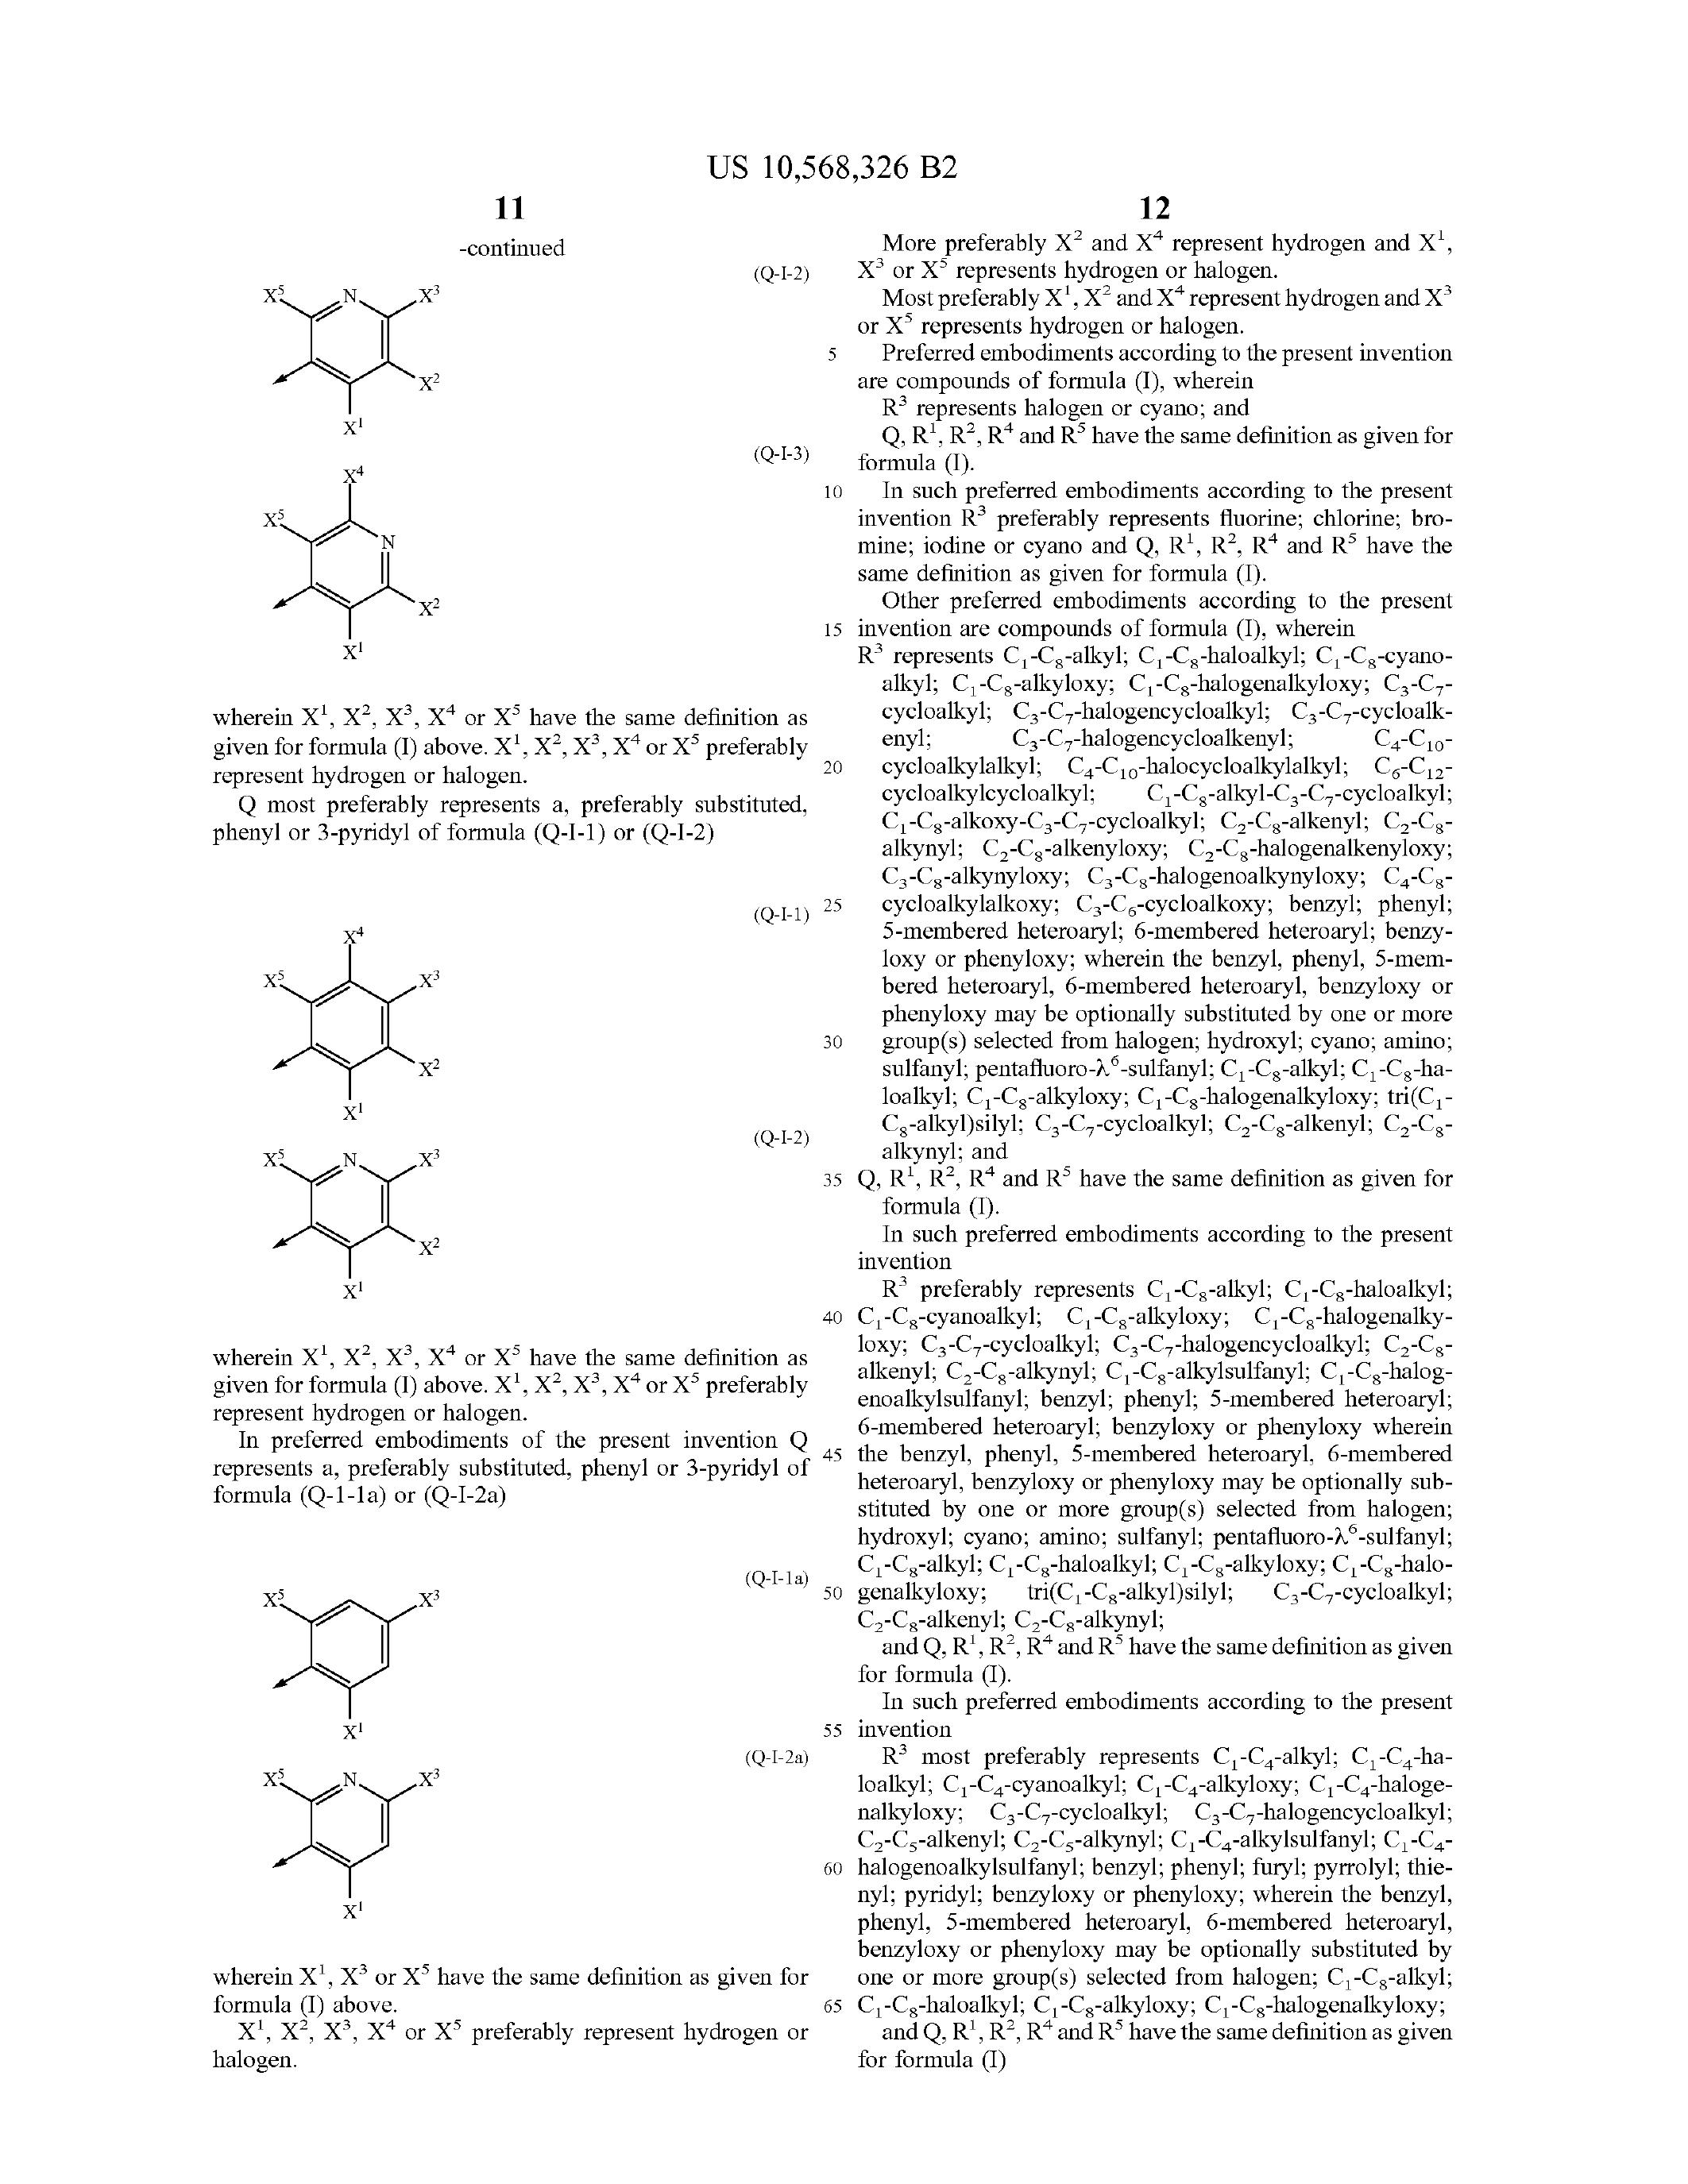markush-structures: (218, 464, 489, 656), (243, 893, 473, 1119), (252, 1751, 489, 1962), (234, 239, 473, 443), (246, 1124, 470, 1321), (252, 1560, 470, 1736)
